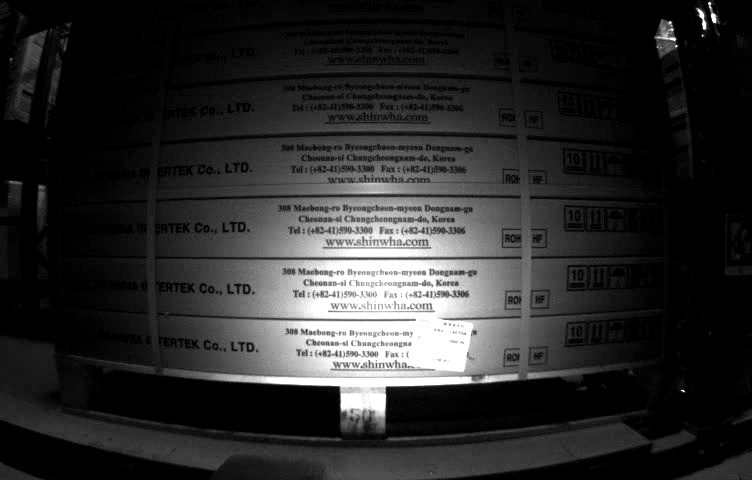True Barcode: (409, 309, 469, 374)
